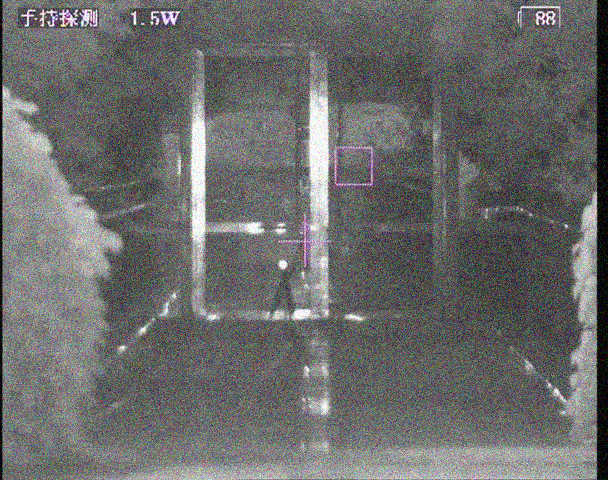my: (276, 259, 289, 271)
